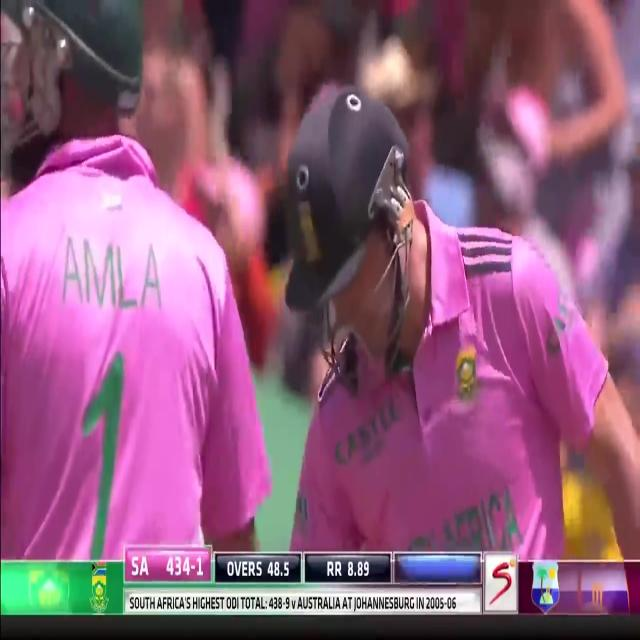Ball: (277, 12, 632, 558), (1, 1, 277, 557)
